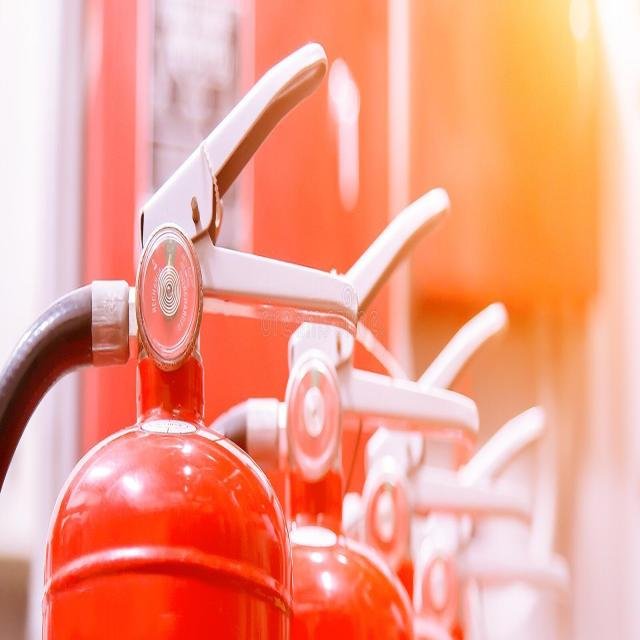fire_extinguisher: (0, 24, 375, 639), (185, 176, 482, 639)
